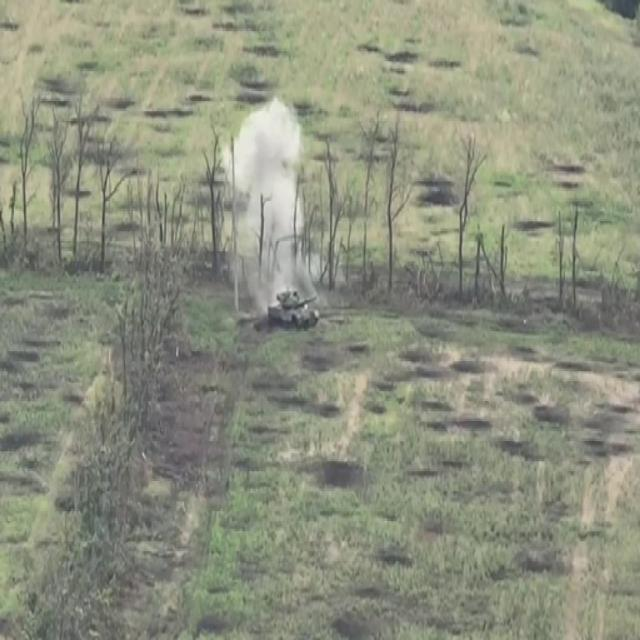TANK: (264, 282, 321, 329)
